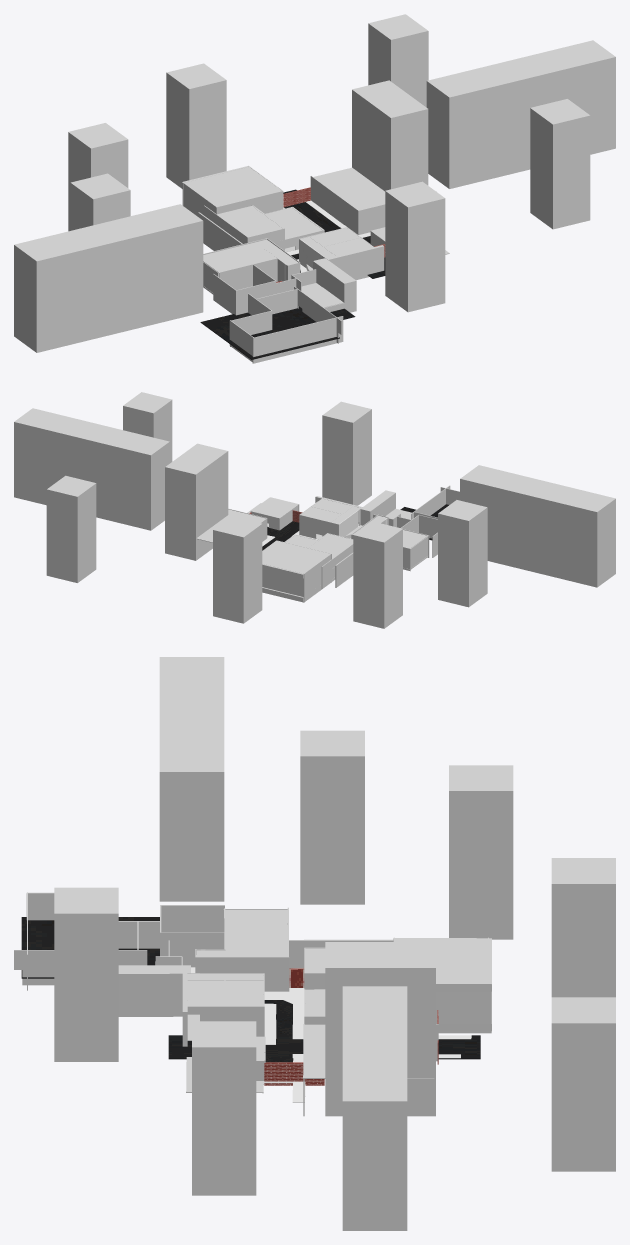
The model's file is game36.glb.
The picture shows the model from 3 angles, top to bottom: view 1: azimuth 30°, elevation 25°; view 2: azimuth 150°, elevation 25°; view 3: azimuth 270°, elevation 25°; orthographic projection. The views are drawn at different scales.
Parts seen in each view (by area): view 1: Cube.219-col.001, Cube.219-col, Cube.212-col.004, Cube.212-col.005, Cube.202-col, Cube.212-col.001, Cube.212-col, Cube.212-col.003, Cube.212-col.002, Cube.003-col, Cube.220-col, Cube.225-col (+20 smaller); view 2: Cube.219-col.001, Cube.219-col, Cube.202-col, Cube.212-col, Cube.212-col.002, Cube.212-col.001, Cube.212-col.003, Cube.212-col.004, Cube.212-col.005, Cube.220-col, Cube.180-col, Cube.221-col (+11 smaller); view 3: Cube.219-col, Cube.219-col.001, Cube.212-col, Cube.212-col.002, Cube.212-col.004, Cube.212-col.005, Cube.212-col.003, Cube.202-col, Cube.212-col.001, Cube.003-col, Cube.110-col, Cube.220-col (+13 smaller).
Part boxes in pixels (bbox=[...]): Cube.219-col.001: bbox=[14, 204, 203, 352]; Cube.219-col: bbox=[426, 40, 615, 188]; Cube.212-col.004: bbox=[385, 181, 445, 312]; Cube.212-col.005: bbox=[530, 99, 590, 229]; Cube.202-col: bbox=[352, 80, 428, 191]; Cube.212-col.001: bbox=[166, 63, 226, 188]; Cube.212-col: bbox=[368, 14, 428, 107]; Cube.212-col.003: bbox=[68, 123, 128, 231]; Cube.212-col.002: bbox=[70, 173, 130, 230]; Cube.003-col: bbox=[200, 189, 385, 359]; Cube.220-col: bbox=[182, 166, 283, 211]; Cube.225-col: bbox=[313, 167, 385, 210]; Cube.219-col.001: bbox=[460, 465, 615, 587]; Cube.219-col: bbox=[14, 408, 169, 530]; Cube.202-col: bbox=[165, 443, 228, 560]; Cube.212-col: bbox=[46, 475, 96, 582]; Cube.212-col.002: bbox=[438, 500, 487, 607]; Cube.212-col.001: bbox=[213, 516, 262, 623]; Cube.212-col.003: bbox=[353, 521, 402, 628]; Cube.212-col.004: bbox=[322, 401, 371, 505]; Cube.212-col.005: bbox=[123, 392, 172, 463]; Cube.220-col: bbox=[262, 541, 331, 578]; Cube.180-col: bbox=[262, 563, 304, 602]; Cube.221-col: bbox=[300, 498, 360, 523]; Cube.219-col: bbox=[342, 986, 407, 1230]; Cube.219-col.001: bbox=[159, 657, 224, 901]; Cube.212-col: bbox=[551, 997, 615, 1171]; Cube.212-col.002: bbox=[300, 730, 364, 904]; Cube.212-col.004: bbox=[54, 887, 118, 1061]; Cube.212-col.005: bbox=[192, 1021, 256, 1195]; Cube.212-col.003: bbox=[449, 765, 513, 939]; Cube.202-col: bbox=[325, 942, 435, 1116]; Cube.212-col.001: bbox=[551, 858, 615, 997]; Cube.003-col: bbox=[21, 917, 480, 1062]; Cube.110-col: bbox=[118, 965, 190, 1016]; Cube.220-col: bbox=[395, 938, 491, 991].
Size of the model in its own units: 2223 by 363 by 1273.
Materials: 174 (22 with a texture image).
